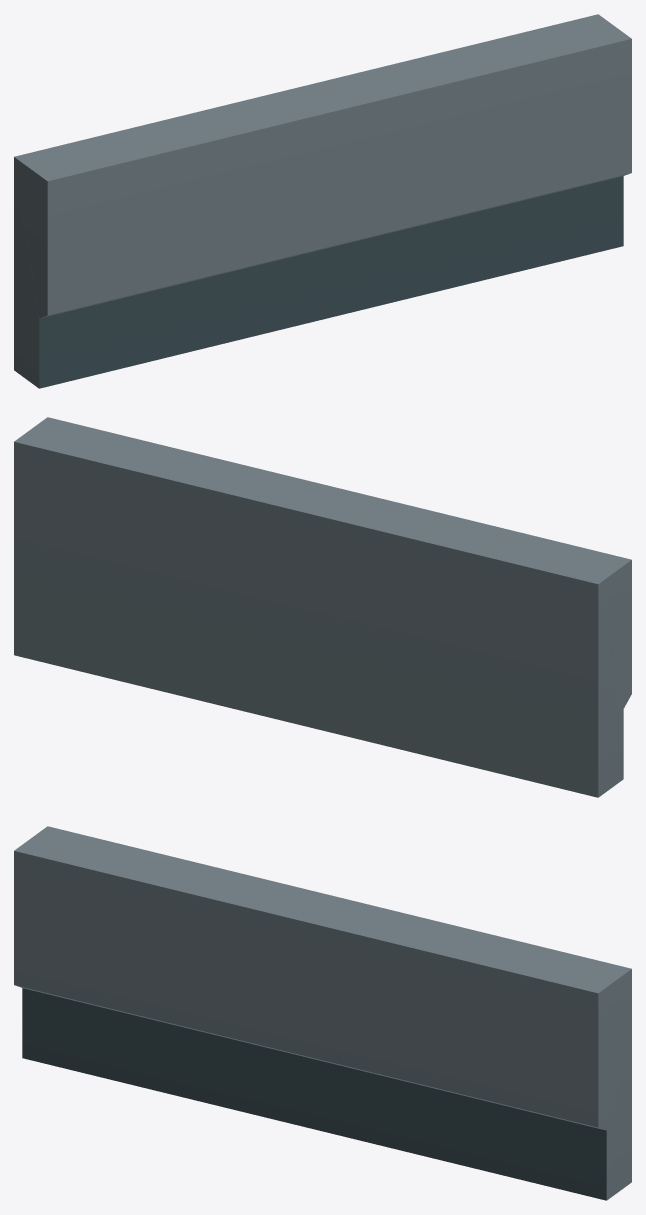
The model's file is Wall_type_C_016.fbx.
3 renders of one model, top to bottom at view 1: azimuth 30°, elevation 25°; view 2: azimuth 150°, elevation 25°; view 3: azimuth 330°, elevation 25°, orthographic.
Visible parts, largest first — view 1: Wall_type_C_016; view 2: Wall_type_C_016; view 3: Wall_type_C_016.
Part boxes in pixels (box(x1,y1,x2,y2)): Wall_type_C_016: box(14, 14, 631, 388); Wall_type_C_016: box(14, 417, 631, 797); Wall_type_C_016: box(14, 826, 631, 1200).
Bounding box in the file's own units: 200 × 20 × 70.
